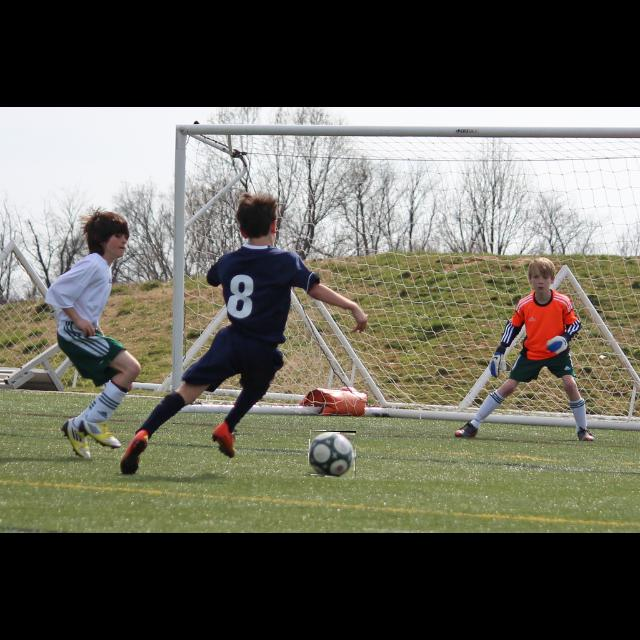Football: (308, 431, 356, 477)
